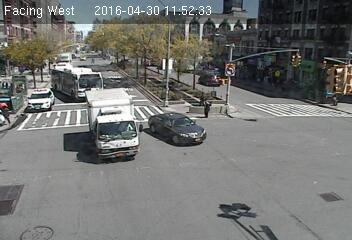neg: (304, 145, 338, 190), (265, 106, 296, 146), (40, 178, 69, 217), (210, 31, 239, 68), (317, 51, 345, 89), (194, 144, 220, 178), (238, 154, 261, 186), (233, 195, 255, 224), (107, 137, 129, 165), (114, 174, 135, 202), (71, 144, 91, 171), (275, 51, 295, 78), (68, 30, 86, 55), (148, 93, 165, 116), (105, 98, 122, 120), (134, 37, 148, 56), (65, 71, 77, 87)
pos: (1, 99, 22, 126), (200, 95, 216, 117)
